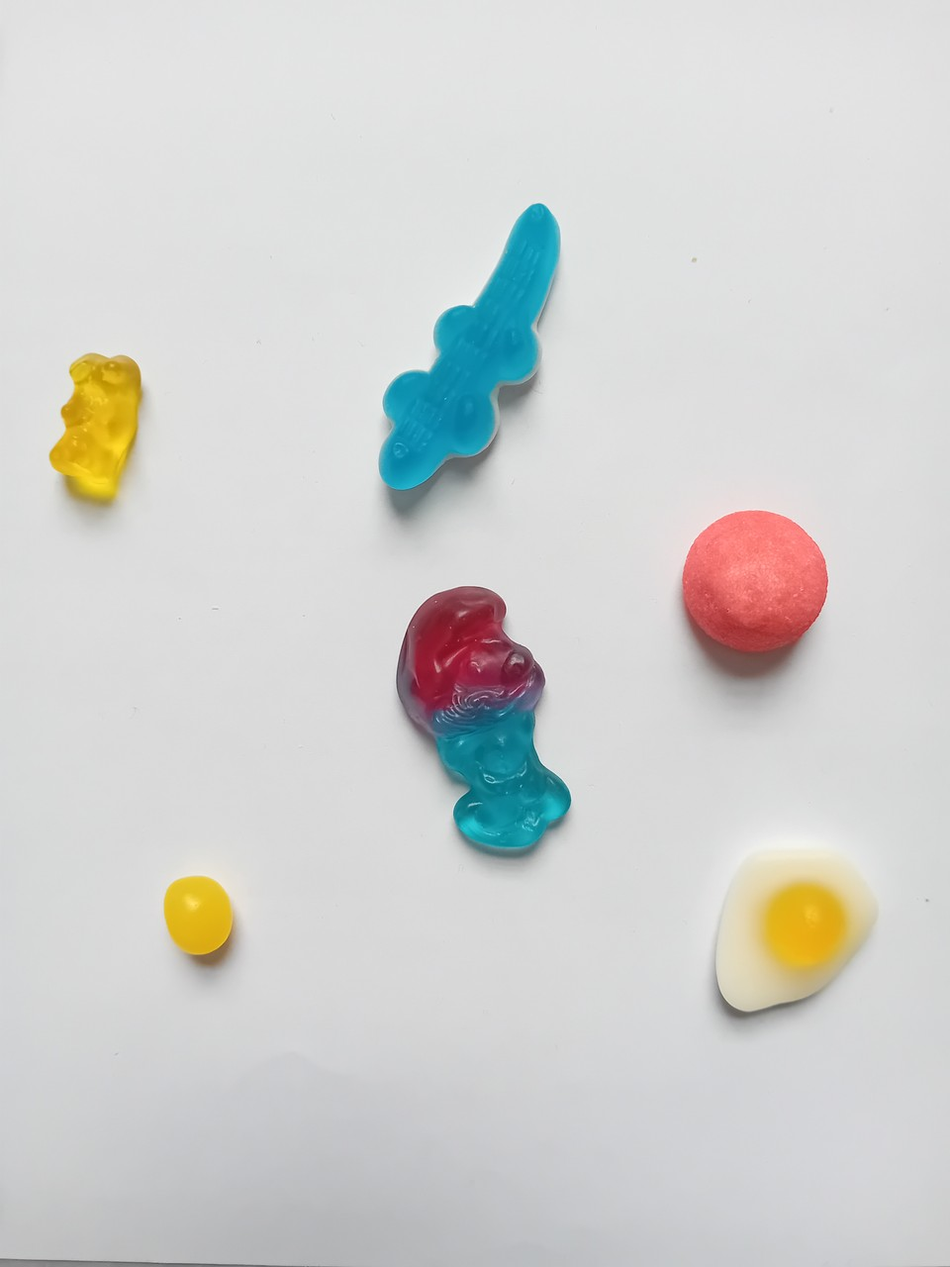crocodile_bleu: (369, 196, 565, 497)
dragibus_jaune: (158, 869, 237, 959)
oeuf_oeuf: (702, 839, 885, 1026)
ourson_jaune: (41, 347, 151, 502)
schtroumpf_bleu-rouge: (389, 580, 578, 866)
tagada_fraise: (677, 506, 835, 659)
